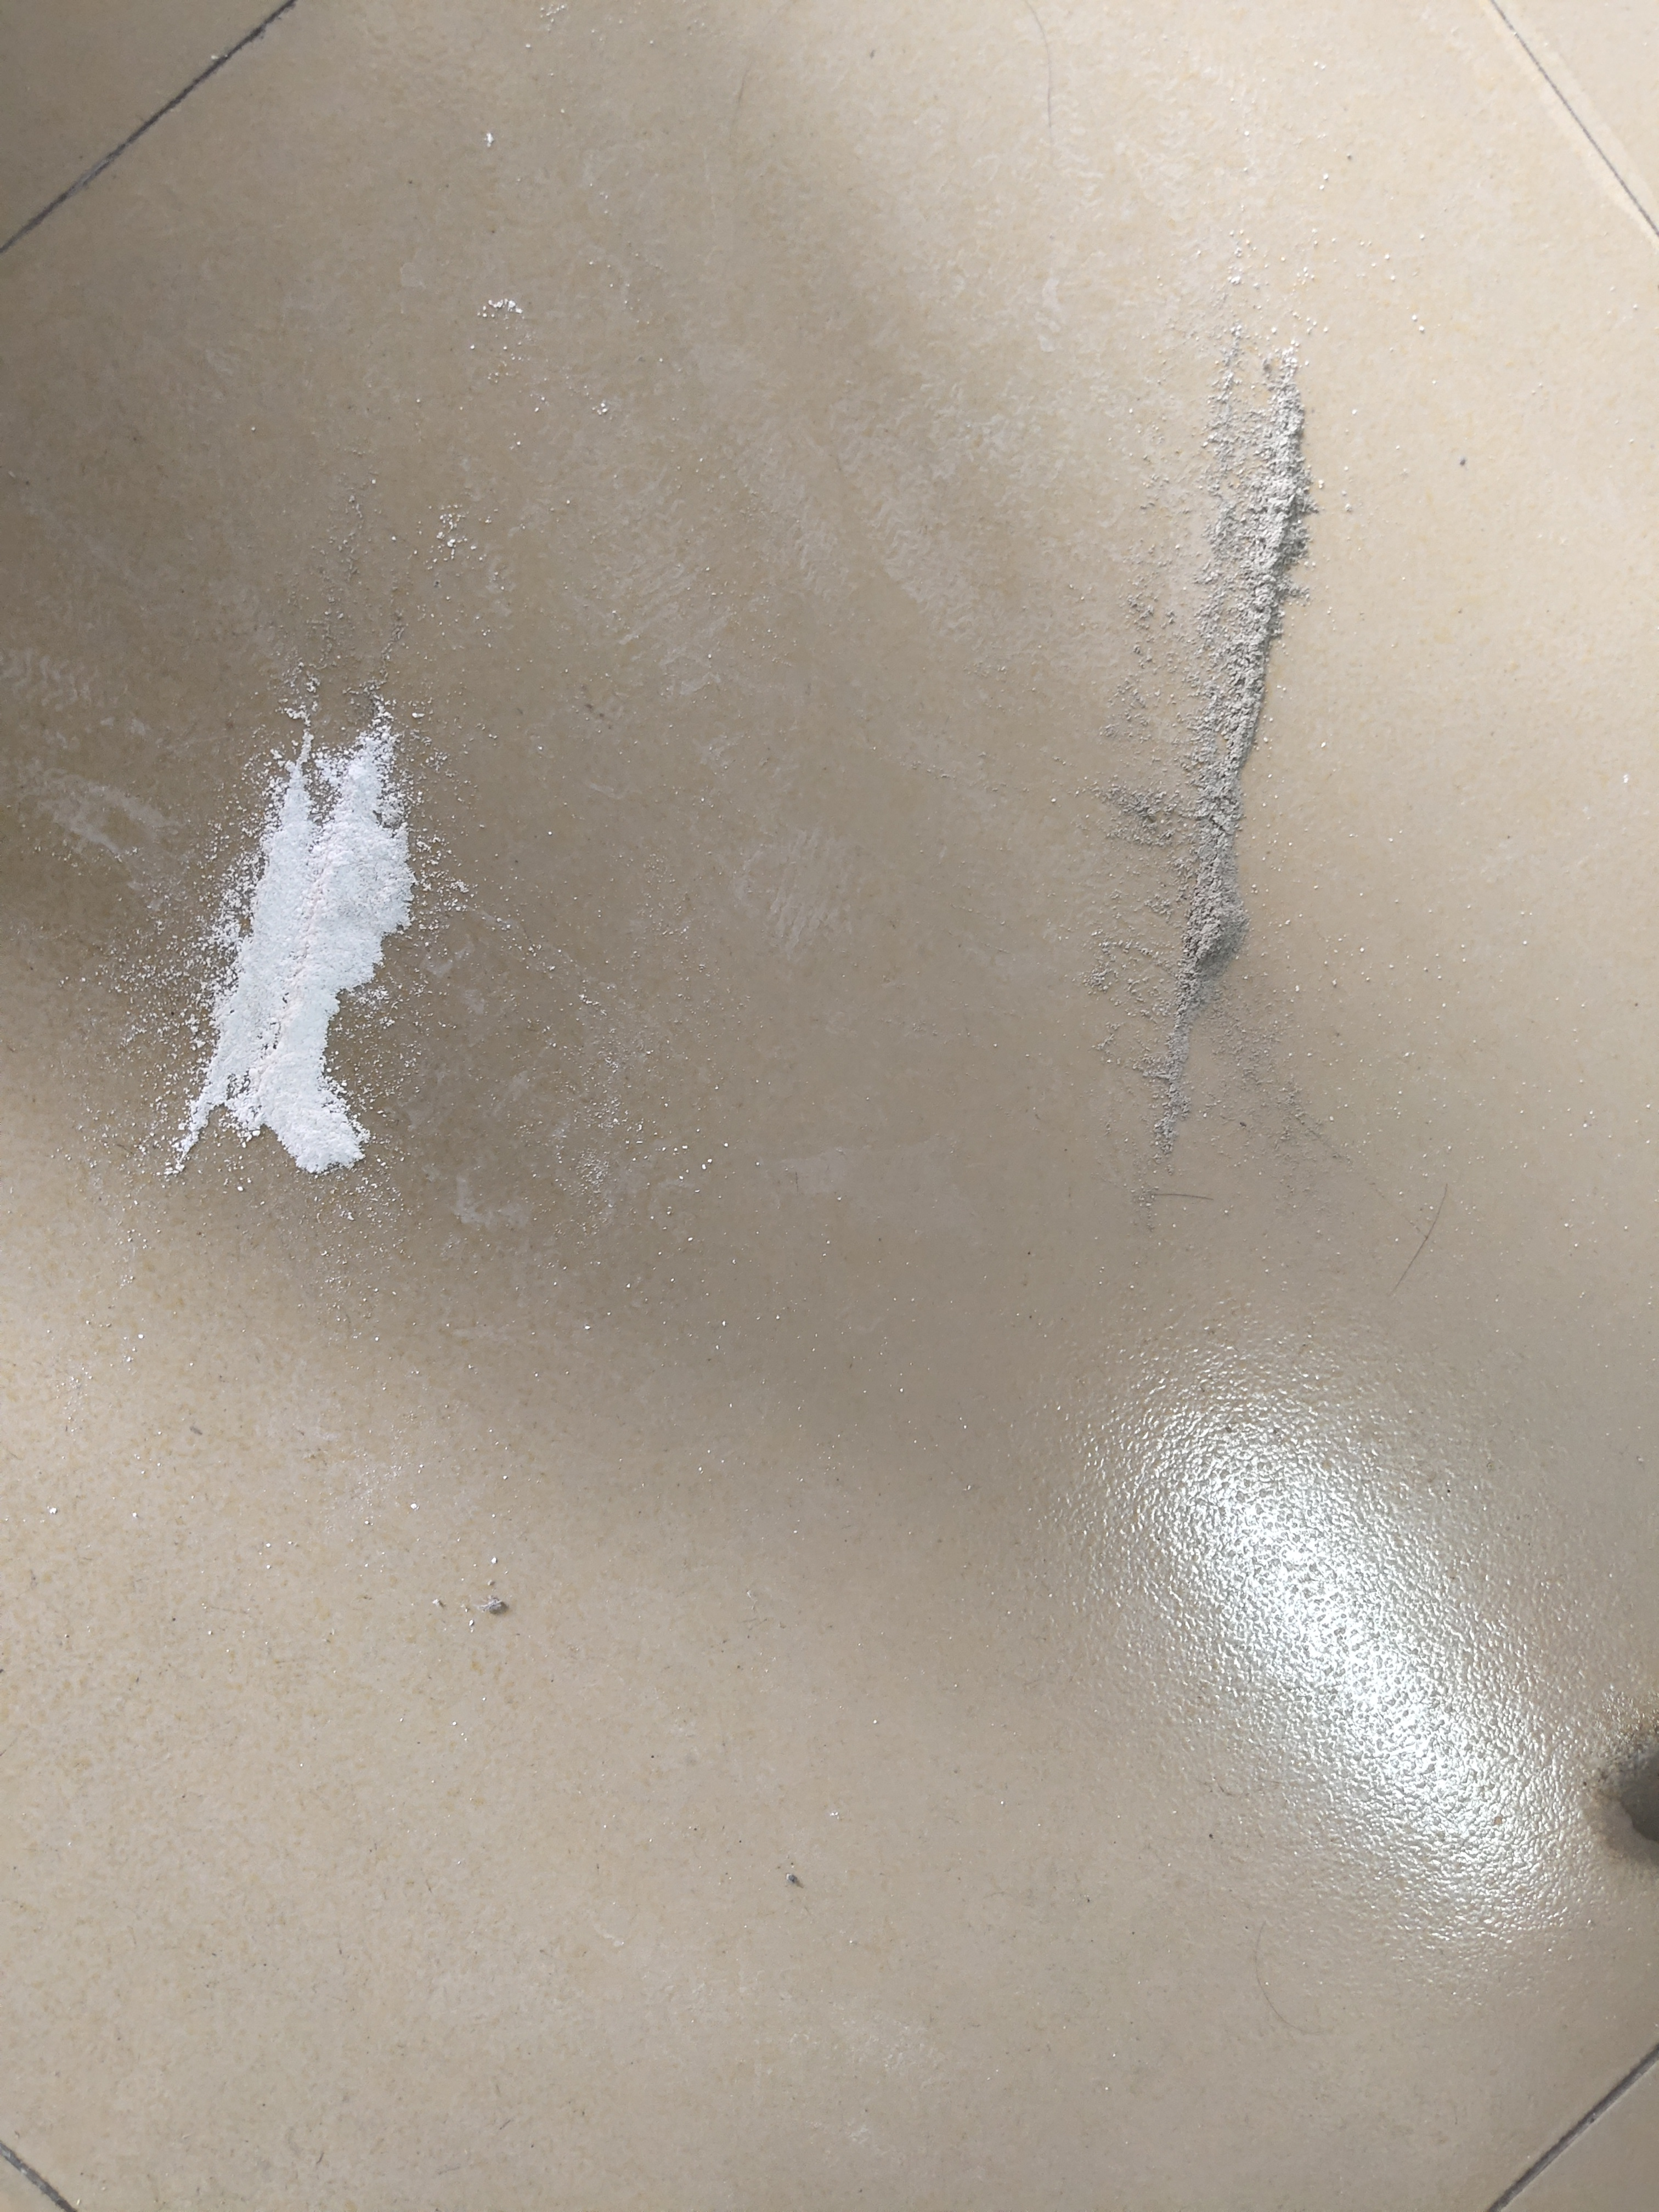ash pile: (160, 683, 415, 1172), (1178, 331, 1323, 1008)
grey spot: (1595, 1723, 1659, 1876)
reflection: (1110, 1383, 1582, 1939)
